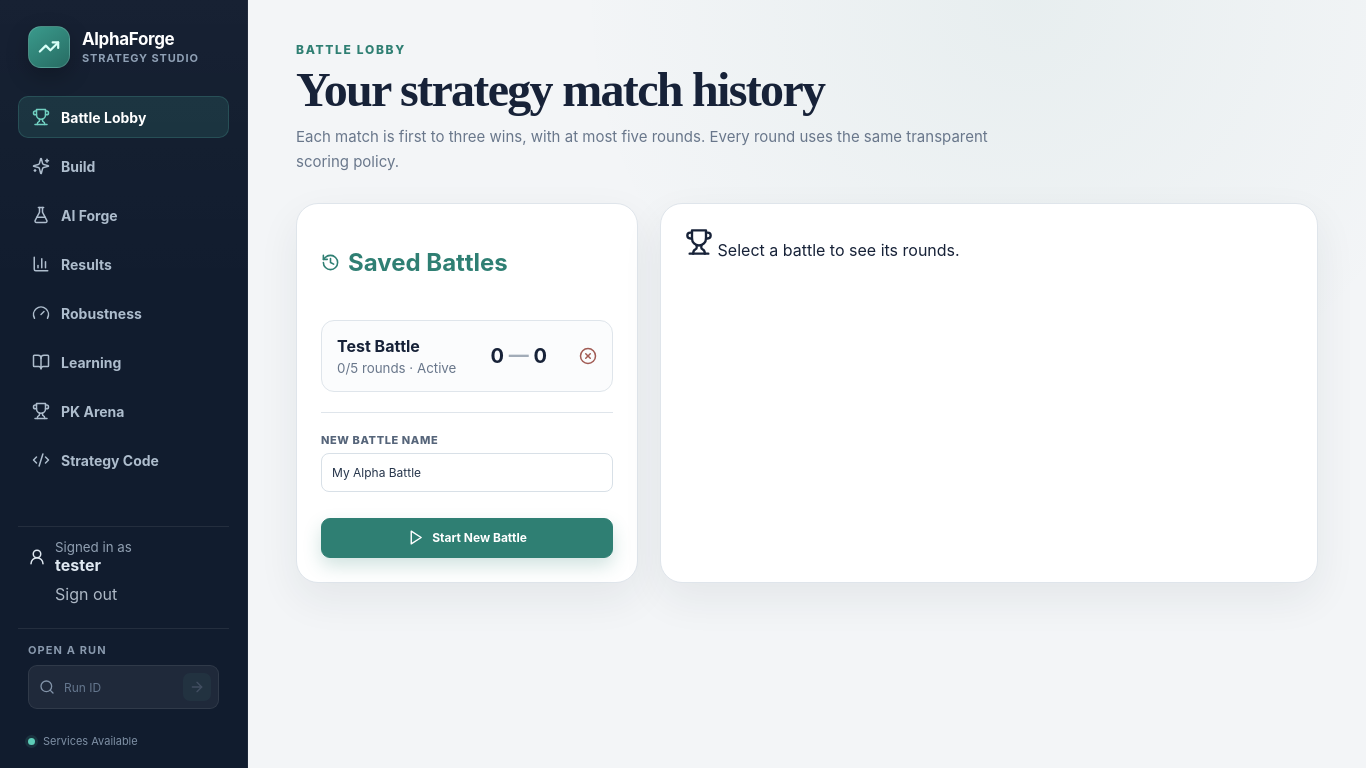
Test: AlphaForge Studio › offers a bounded advanced multi-factor Human template
This screenshot has width=1366, height=768.
Expected: the heading "Your strategy match history" is shown, [296,63,824,116]
What coordinates should you click on to do the following:
click the button "Test Battle 0/5 rounds · Active 0 — 0"
I would click on:
 (442, 356)
Its box is [327,326,557,386].
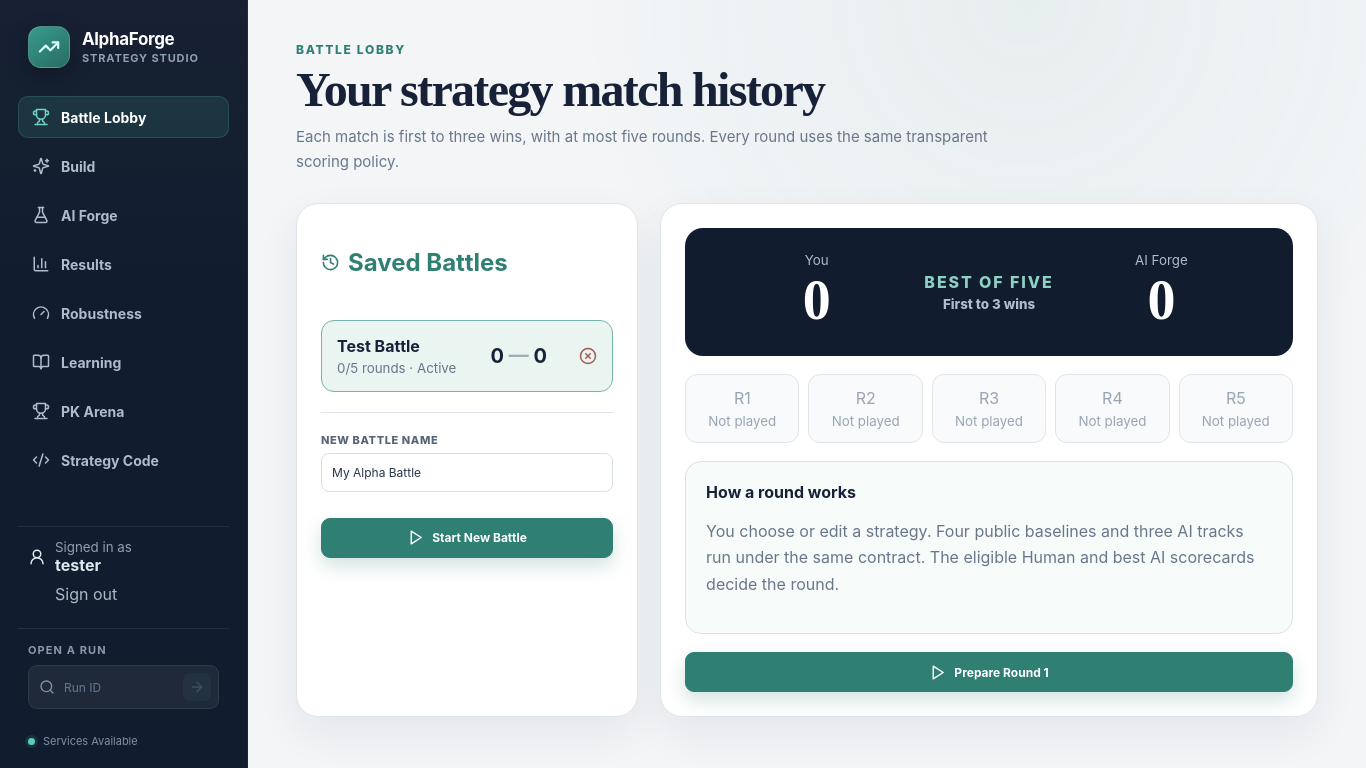
Expected: the text "How a round works" is shown, [706,482,856,502]
What coordinates should you click on to do the following:
click the button "Prepare Round 1"
I would click on:
 (989, 672)
Its box is [685,652,1293,692].
(page scrolled)
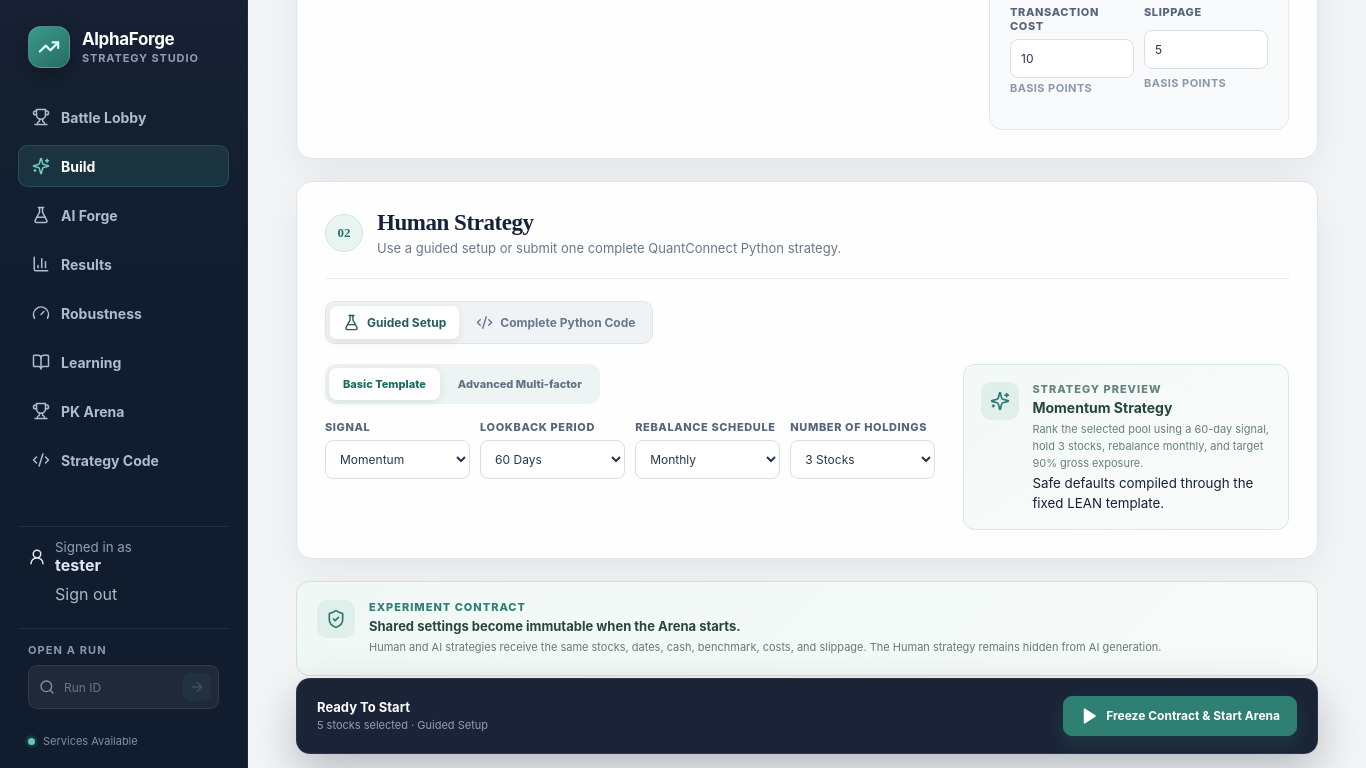
What coordinates should you click on to do the following:
click the button "Advanced Multi-factor"
I would click on:
 (520, 384)
Its box is [444,368,596,400].
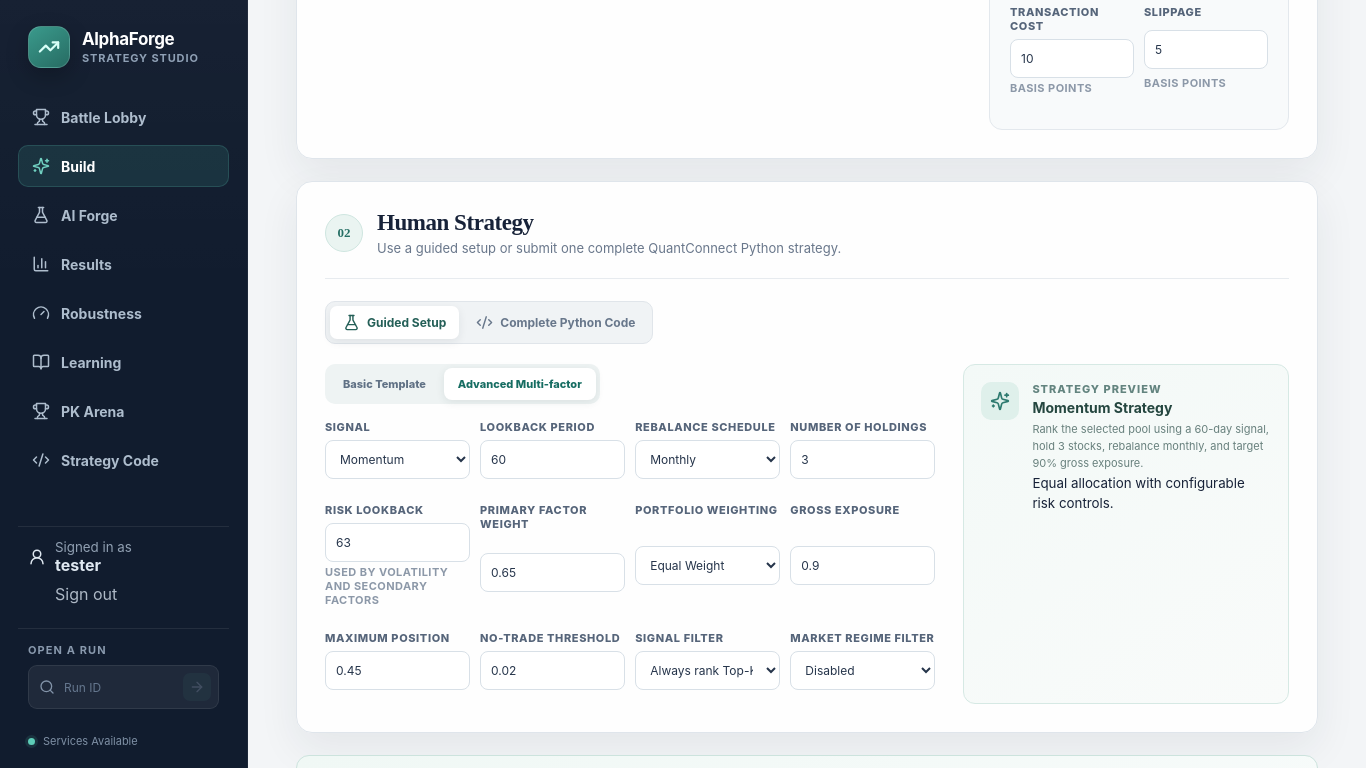
Expected: the text "Portfolio Weighting" is shown, [635,503,778,517]
Expected: the text "Gross Exposure" is shown, [790,503,900,517]
Expected: the text "Market Regime Filter" is shown, [790,631,935,645]
